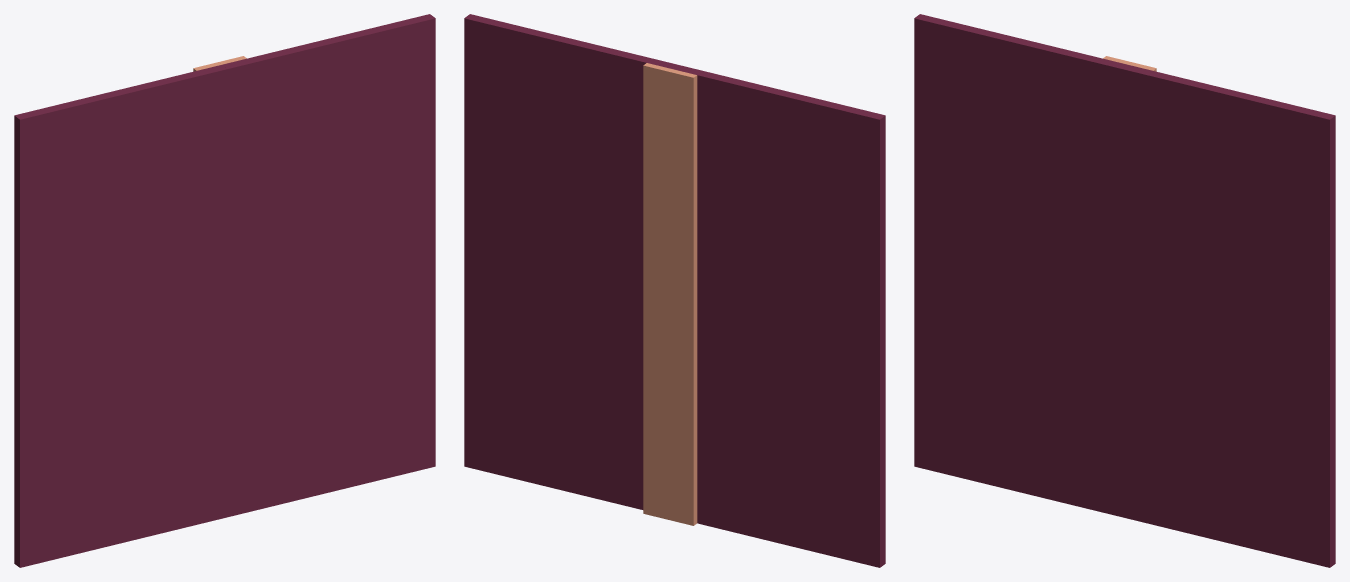
Rendered from Lift_Door.fbx.
The picture shows the model from 3 angles, left to right: view 1: azimuth 30°, elevation 25°; view 2: azimuth 150°, elevation 25°; view 3: azimuth 330°, elevation 25°; orthographic projection.
Parts seen in each view (by area): view 1: Lift_Door; view 2: Lift_Door; view 3: Lift_Door.
Part boxes in pixels (x1=…): Lift_Door: x1=14, y1=14, x2=435, y2=567; Lift_Door: x1=464, y1=14, x2=885, y2=567; Lift_Door: x1=914, y1=14, x2=1335, y2=567.
Size of the model in its own units: 1.96 by 2.01 by 0.0774.
